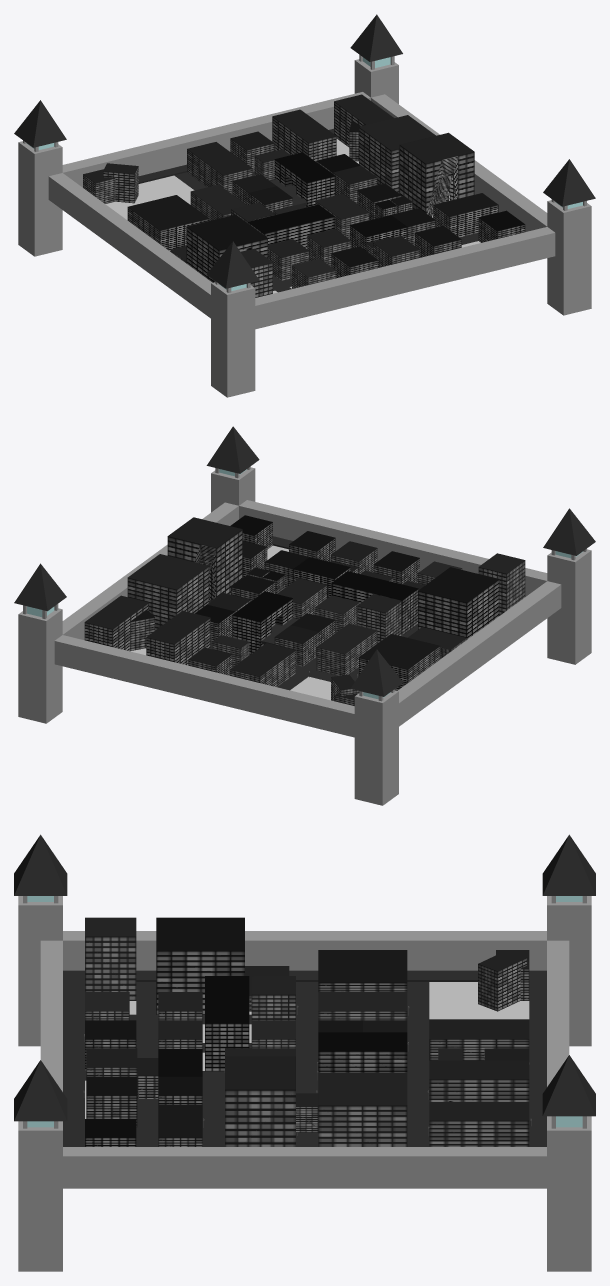
Rendered from itsgroundtime 1.fbx.
3 views of the same model, one above another, from view 1: azimuth 30°, elevation 25°; view 2: azimuth 150°, elevation 25°; view 3: azimuth 270°, elevation 25° (orthographic). The views are drawn at different scales.
Visible parts, largest first — view 1: Cube.021, Cube.023, Cube.022, Cube.030, Cube.060, Cube.061, Cube.059, Cube.025, Cube.028, Cube.024, Cube.027, Cube.054 (+33 smaller); view 2: Cube.022, Cube.023, Cube.021, Cube.059, Cube.028, Cube.058, Cube.060, Cube.025, Cube.030, Cube.054, Cube.040, Cube.012 (+31 smaller); view 3: Cube.024, Cube.023, Cube.025, Cube.058, Cube.061, Cube.030, Cube.028, Cube.055, Cube.059, Cube.060, Cube.054, Cube.047 (+42 smaller).
Boxes of the visible parts, box(x1,y1,x2,y2) form: Cube.021: box(255, 227, 555, 329); Cube.023: box(48, 173, 212, 318); Cube.022: box(62, 92, 370, 187); Cube.030: box(399, 132, 474, 217); Cube.060: box(211, 282, 255, 397); Cube.061: box(547, 200, 591, 315); Cube.059: box(18, 141, 62, 256); Cube.025: box(359, 115, 435, 193); Cube.028: box(186, 214, 267, 282); Cube.024: box(371, 94, 547, 231); Cube.027: box(127, 195, 208, 251); Cube.054: box(272, 109, 336, 161); Cube.022: box(54, 635, 354, 737); Cube.023: box(397, 581, 561, 726); Cube.021: box(239, 500, 547, 596); Cube.059: box(354, 690, 398, 805); Cube.028: box(418, 567, 499, 639); Cube.058: box(18, 608, 62, 723); Cube.060: box(547, 549, 591, 664); Cube.025: box(127, 554, 208, 630); Cube.030: box(167, 517, 242, 602); Cube.054: box(146, 610, 210, 665); Cube.040: box(232, 591, 292, 654); Cube.012: box(331, 571, 418, 634); Cube.024: box(63, 1147, 546, 1188); Cube.023: box(63, 931, 546, 970); Cube.025: box(318, 1072, 407, 1146); Cube.058: box(547, 1116, 591, 1271); Cube.061: box(18, 1121, 62, 1271); Cube.030: box(225, 1056, 295, 1146); Cube.028: box(156, 917, 244, 1014); Cube.055: box(429, 1102, 529, 1146); Cube.059: box(547, 896, 591, 1046); Cube.060: box(18, 896, 62, 1046); Cube.054: box(429, 1060, 529, 1101); Cube.047: box(85, 917, 136, 1000).
Size of the model in its own units: 26400 by 10300 by 26200.
